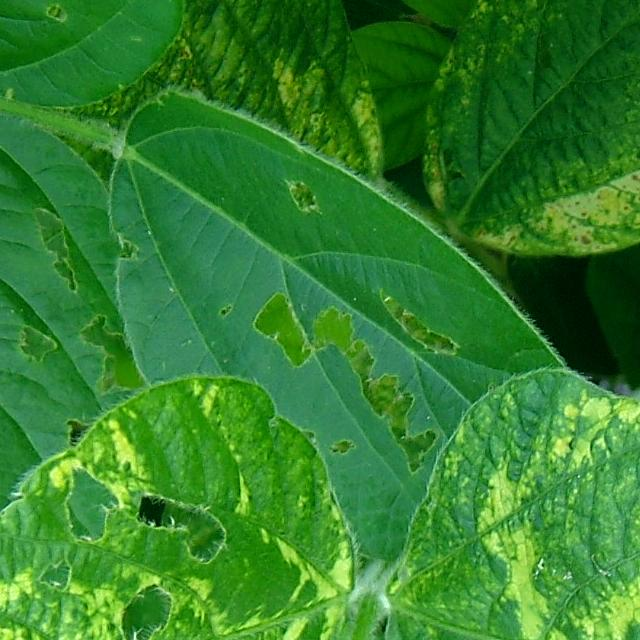Tomato leaf mosaic virus: (0, 368, 354, 640), (396, 385, 640, 640)
